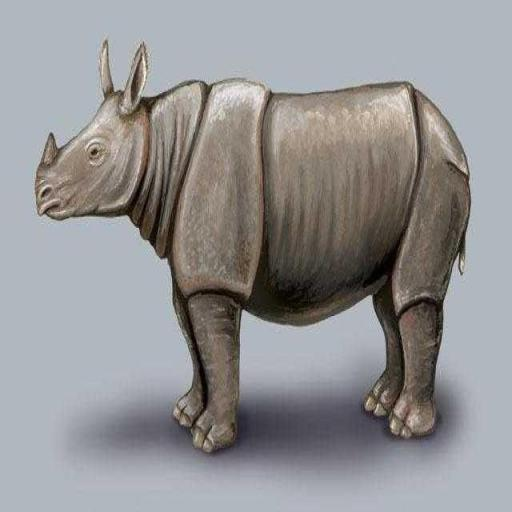Rhino: (34, 34, 471, 453)
